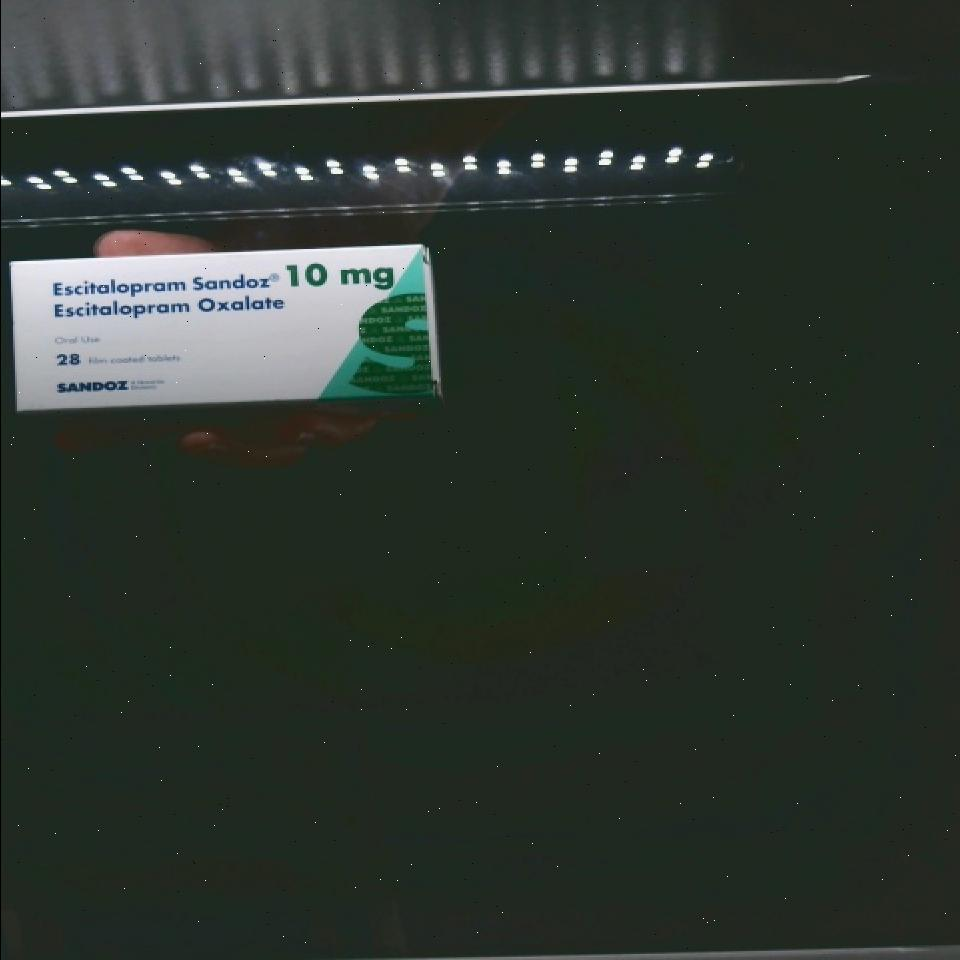medicine_box: (8, 243, 440, 409)
medicine_label_obb: (35, 258, 293, 329)
